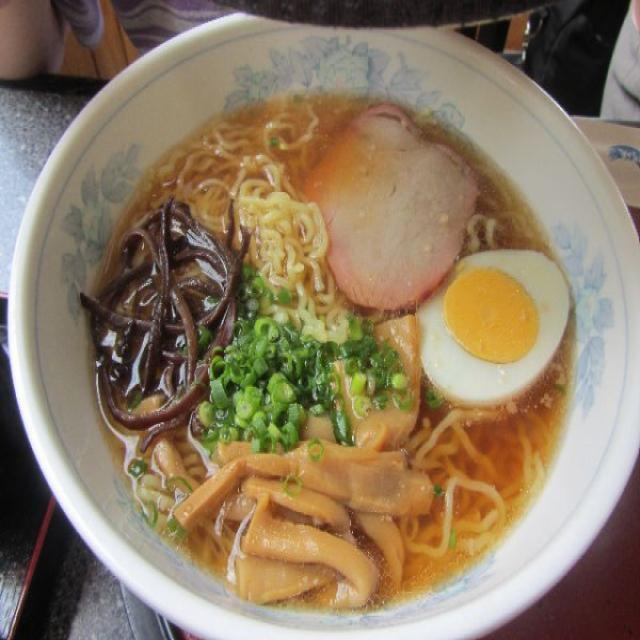面条主食: (6, 0, 640, 630)
